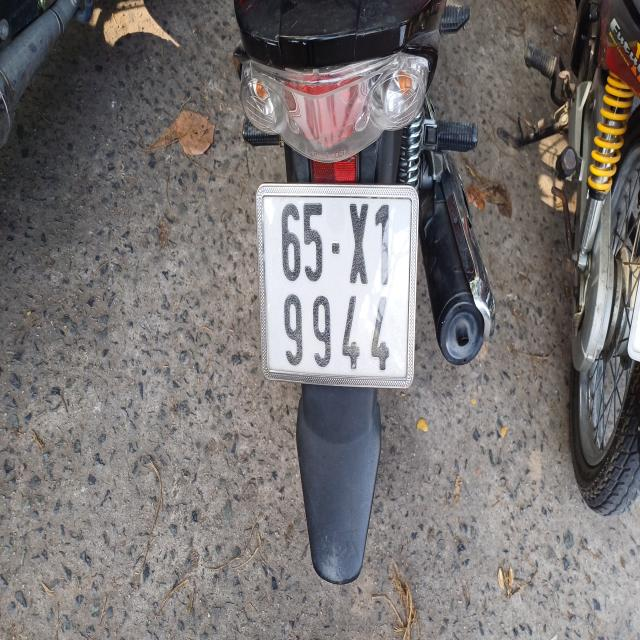1: (372, 204, 393, 289)
4: (340, 294, 363, 370), (370, 302, 390, 374)
5: (303, 197, 323, 285)
6: (280, 199, 301, 285)
9: (308, 293, 335, 369), (282, 292, 306, 363)
X: (350, 203, 370, 287)
